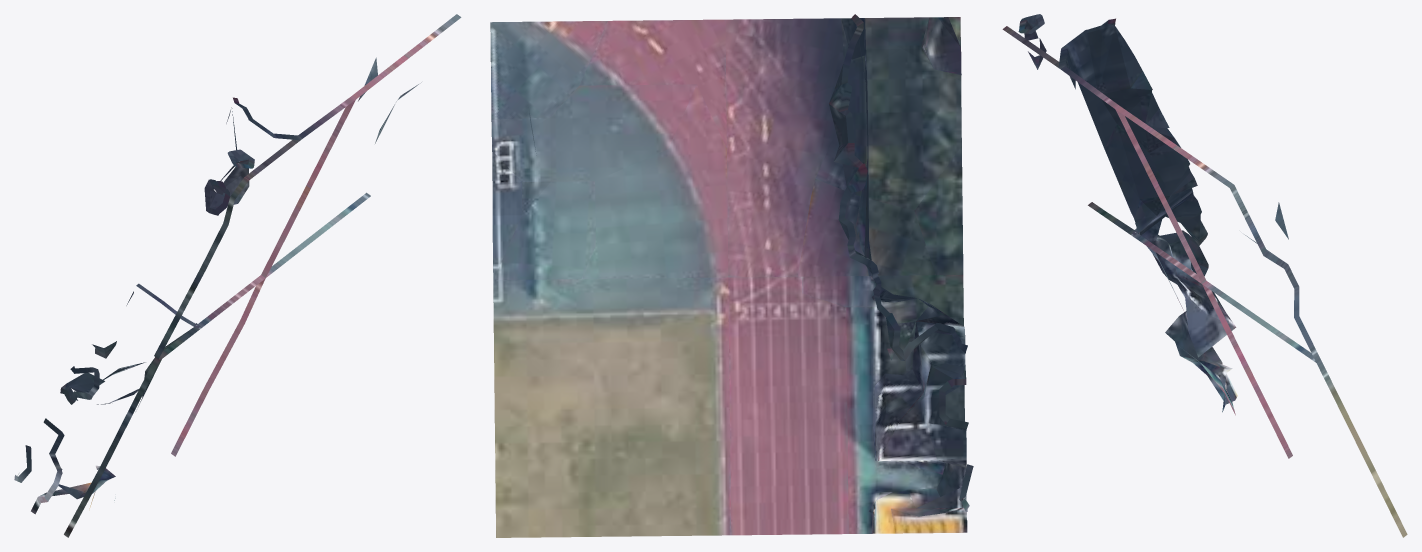
The picture shows the model from 3 angles, left to right: view 1: azimuth 30°, elevation 25°; view 2: azimuth 150°, elevation 25°; view 3: azimuth 270°, elevation 25°; orthographic projection. The views are drawn at different scales.
Size of the model in its own units: 40.59 by 37.56 by 32.08.
1 material, 1 textured.
